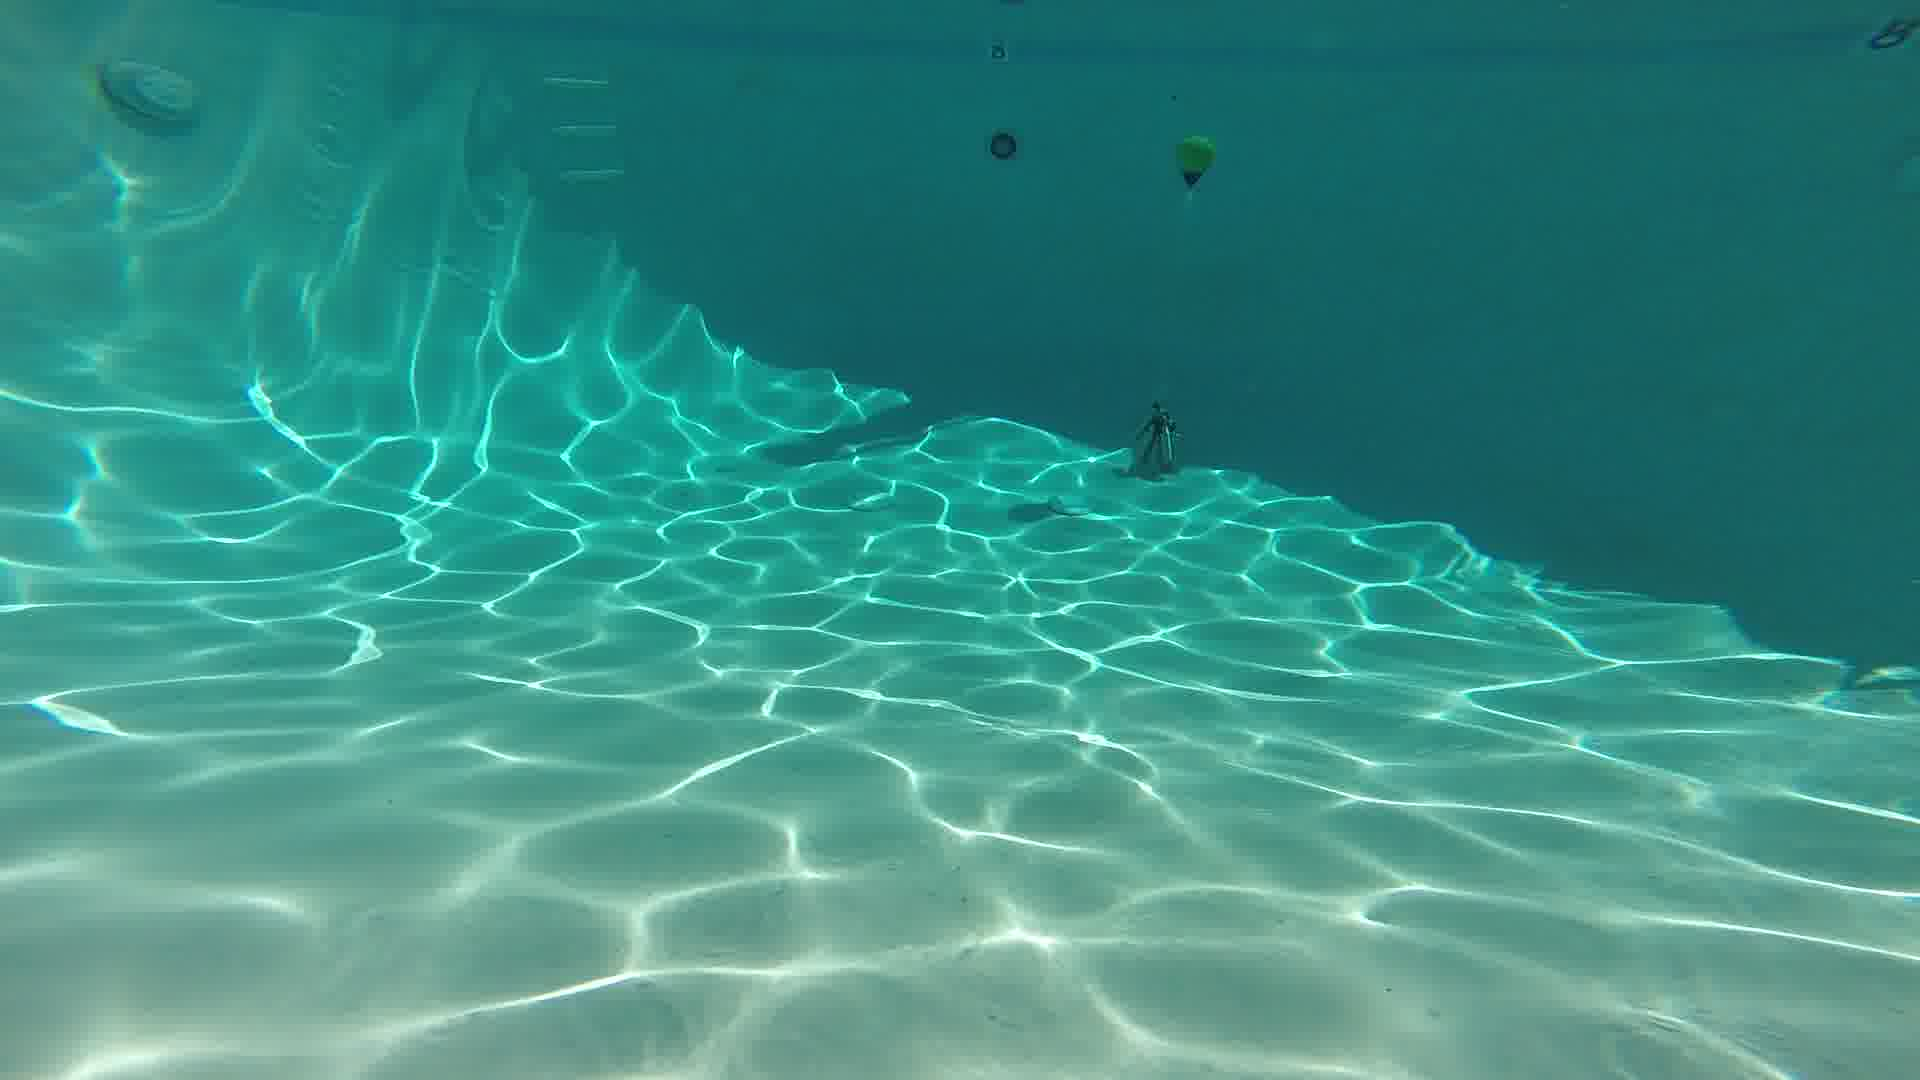yellow_buoy: (1175, 136, 1212, 185)
